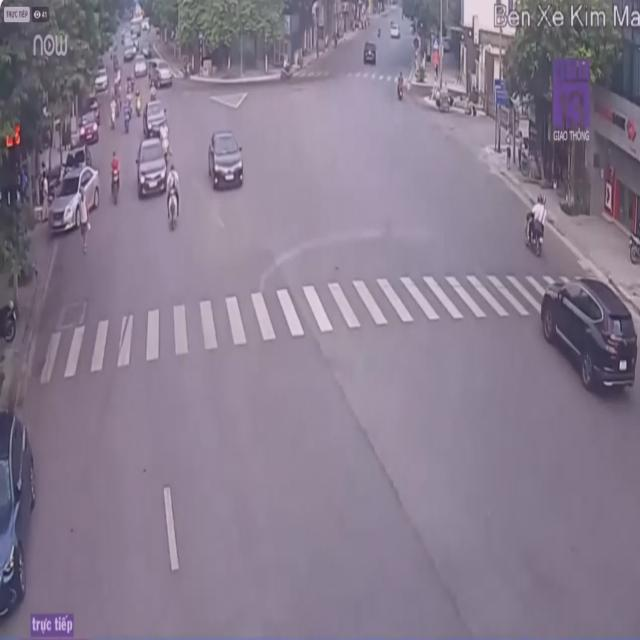car: (536, 278, 638, 400), (0, 412, 38, 626), (205, 129, 247, 193), (134, 139, 172, 199)
motorbike: (524, 192, 548, 258), (166, 160, 180, 235), (111, 150, 125, 197)
